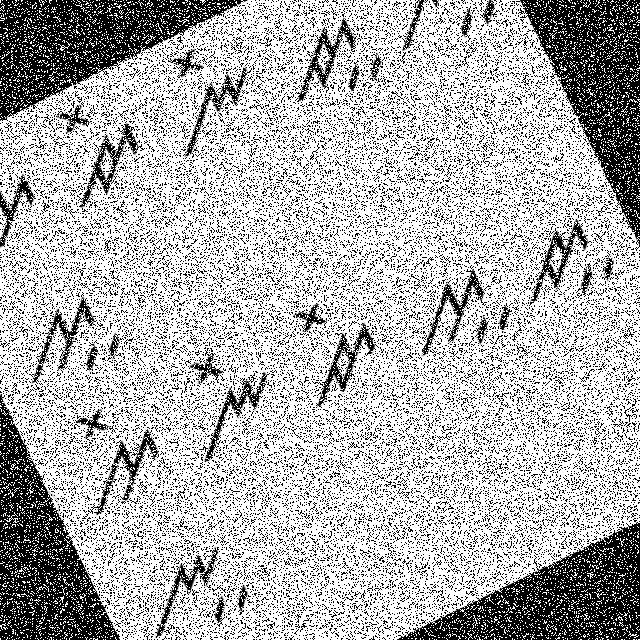jah: (259, 0, 395, 124), (499, 204, 626, 321)
jo: (268, 282, 401, 424), (34, 80, 160, 216)
nyah: (124, 530, 264, 639), (373, 0, 516, 73)
nyo: (136, 25, 276, 166), (158, 329, 294, 468)
sah: (385, 248, 523, 374), (0, 278, 134, 404)
so: (46, 386, 179, 525), (0, 133, 56, 271)
